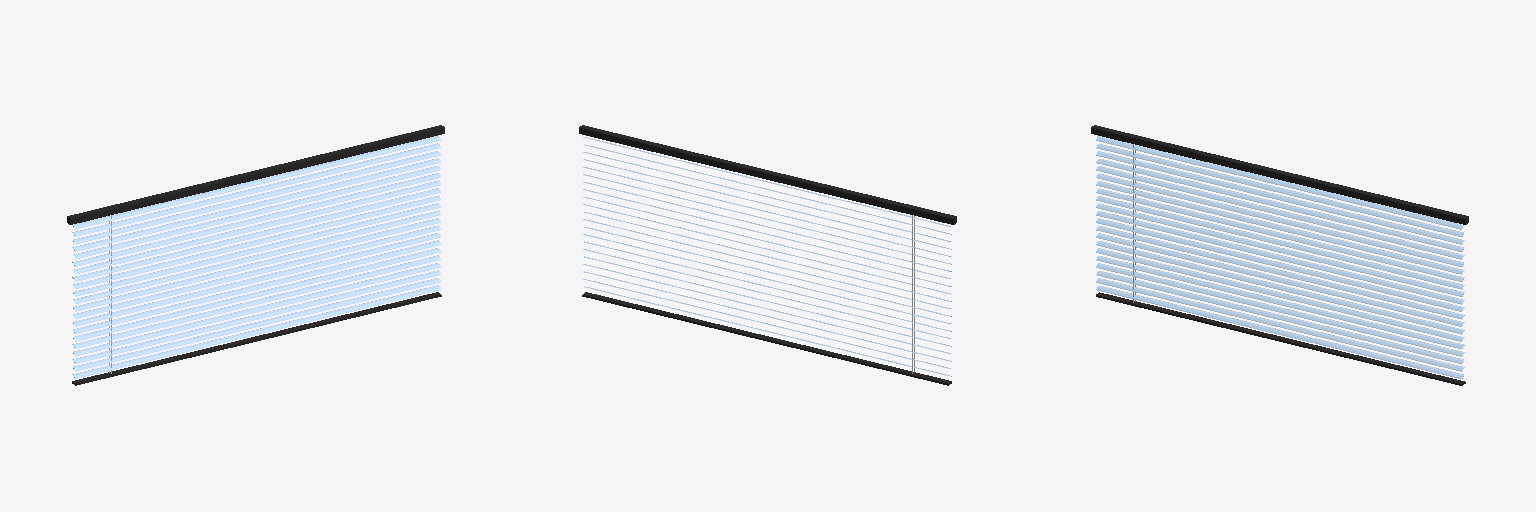
3 views of the same model, side by side, from view 1: azimuth 30°, elevation 25°; view 2: azimuth 150°, elevation 25°; view 3: azimuth 330°, elevation 25° (orthographic).
Parts seen in each view (by area): view 1: Screen; view 2: Screen; view 3: Screen.
Boxes of the visible parts, x1=… form: Screen: x1=67, y1=125, x2=444, y2=385; Screen: x1=579, y1=125, x2=956, y2=385; Screen: x1=1091, y1=125, x2=1468, y2=385.
Size of the model in its own units: 22.89 by 9.8 by 0.3834.